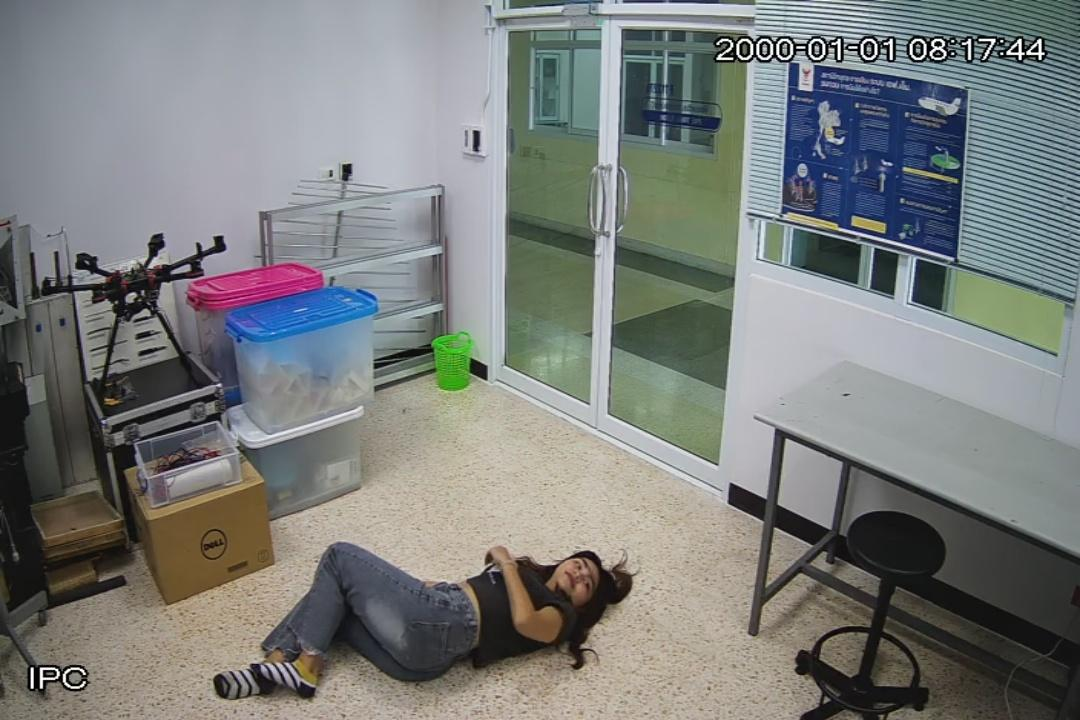fall: (209, 542, 623, 709)
